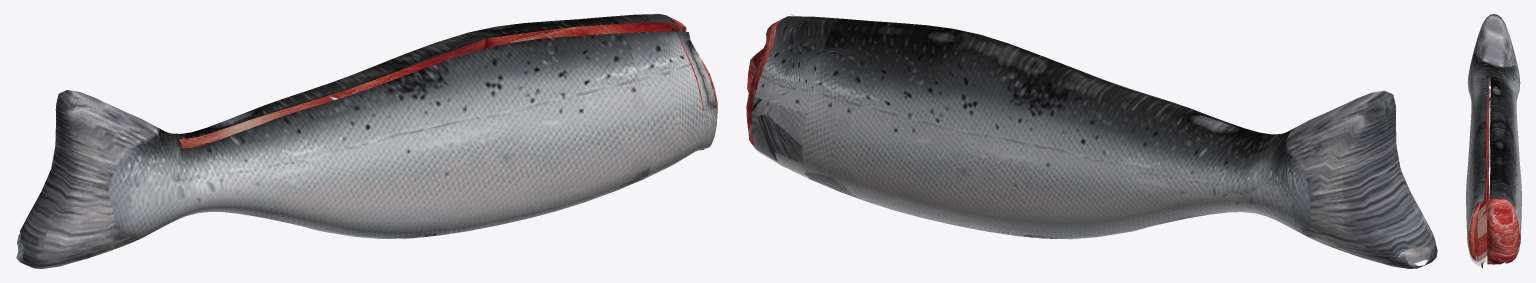
3 renders of one model, left to right at view 1: azimuth 30°, elevation 25°; view 2: azimuth 150°, elevation 25°; view 3: azimuth 270°, elevation 25°, orthographic. The views are drawn at different scales.
Visible parts, largest first — view 1: tredje.002, tredje.003; view 2: tredje.002; view 3: tredje.002, tredje.004.
Boxes of the visible parts, x1,y1,x2,y2 form: tredje.002: (16,14,717,268); tredje.003: (179,22,671,148); tredje.002: (746,14,1437,268); tredje.002: (1466,14,1521,268); tredje.004: (1474,77,1488,261).
Size of the model in its own units: 666 by 211 by 94.42.
